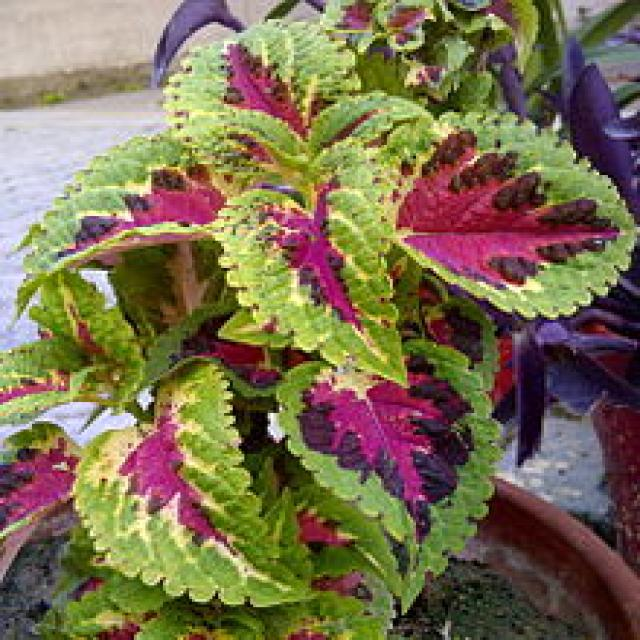Coleus: (9, 46, 637, 634)
